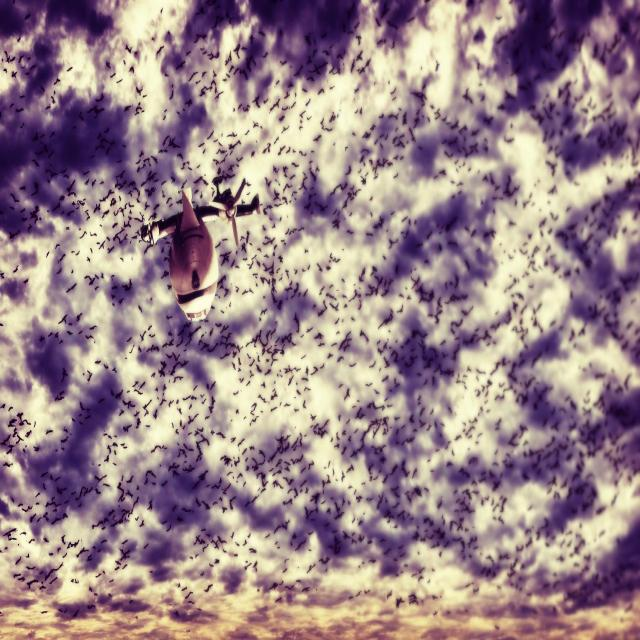airplane: (144, 175, 260, 324)
